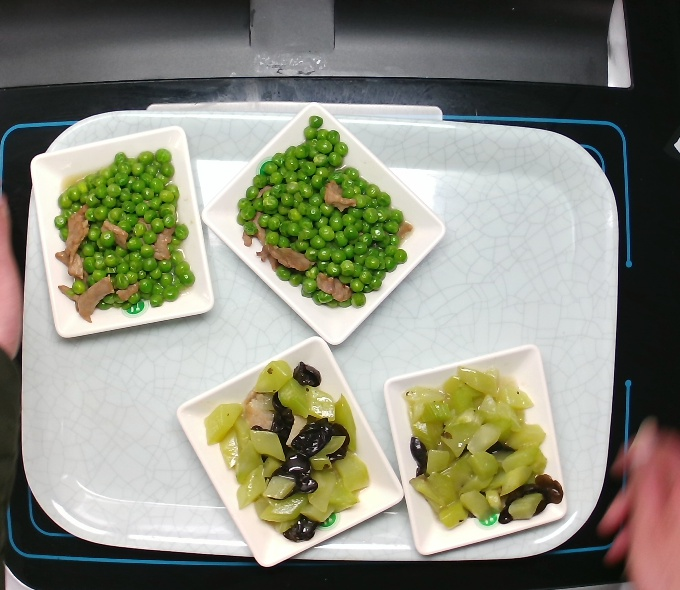wcq-CanDouRouSi: (215, 111, 421, 317), (53, 140, 197, 332)
wcq-WoSunKuai: (204, 349, 379, 549), (400, 357, 573, 534)
